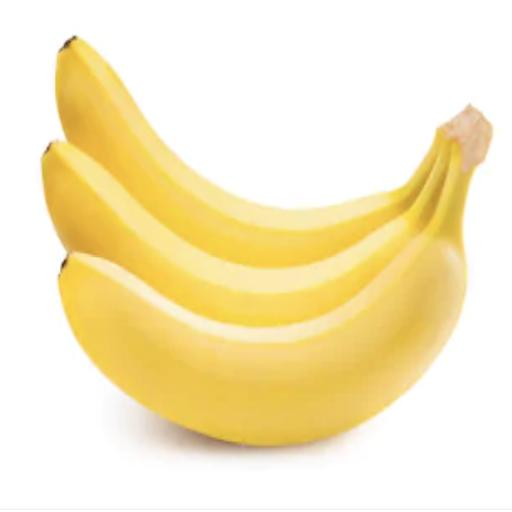banana: (60, 108, 491, 445), (56, 38, 436, 267), (43, 130, 451, 326)
